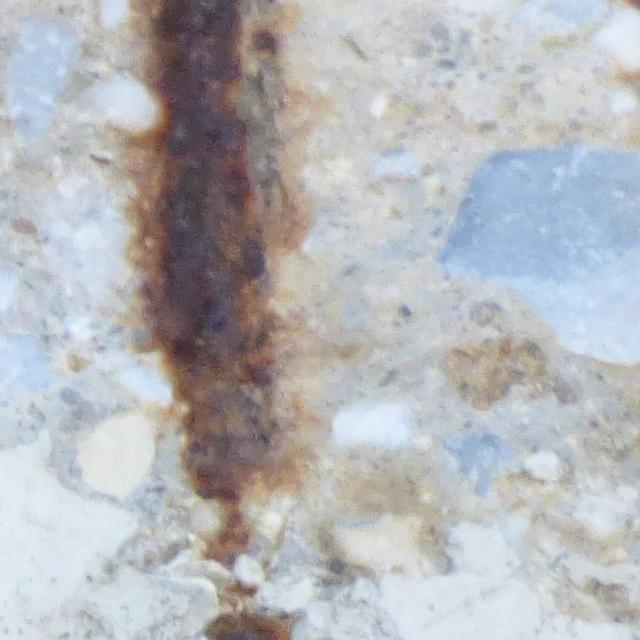Rust: (136, 1, 287, 506), (197, 511, 260, 570), (202, 608, 301, 638)
